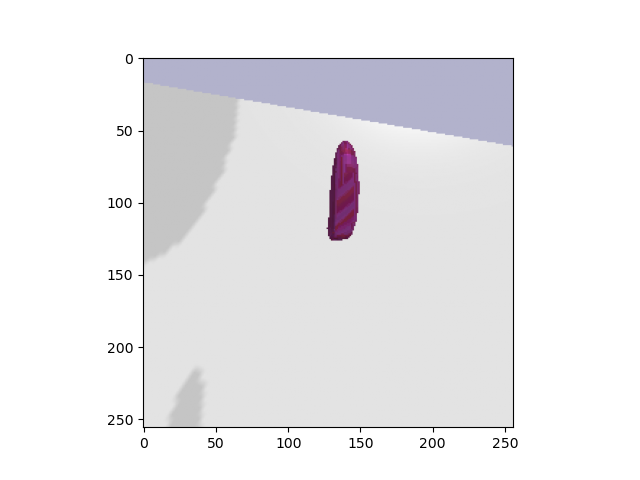v249b387_105: (315, 134, 373, 249)
